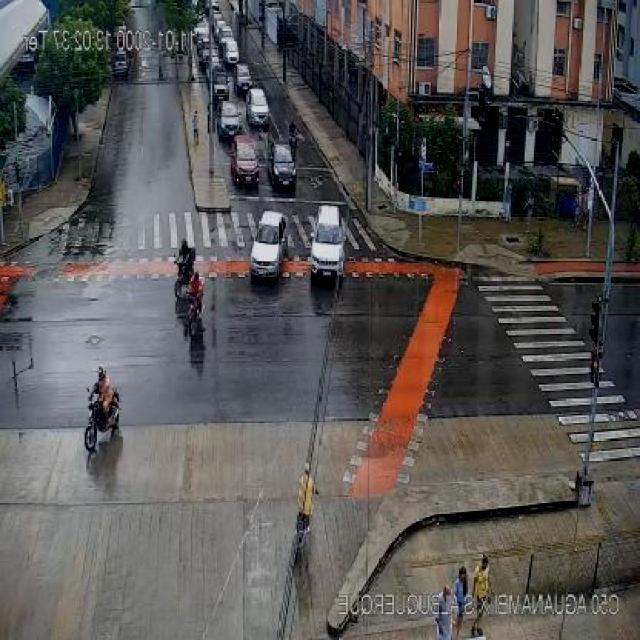Car: (308, 204, 347, 280), (248, 210, 290, 278), (229, 135, 261, 186), (267, 142, 296, 191), (244, 87, 270, 127), (217, 99, 243, 137), (233, 63, 255, 91), (225, 39, 242, 68), (113, 50, 130, 76)
Cycle: (82, 385, 123, 452), (172, 248, 197, 298), (292, 513, 309, 569), (186, 293, 204, 336)
